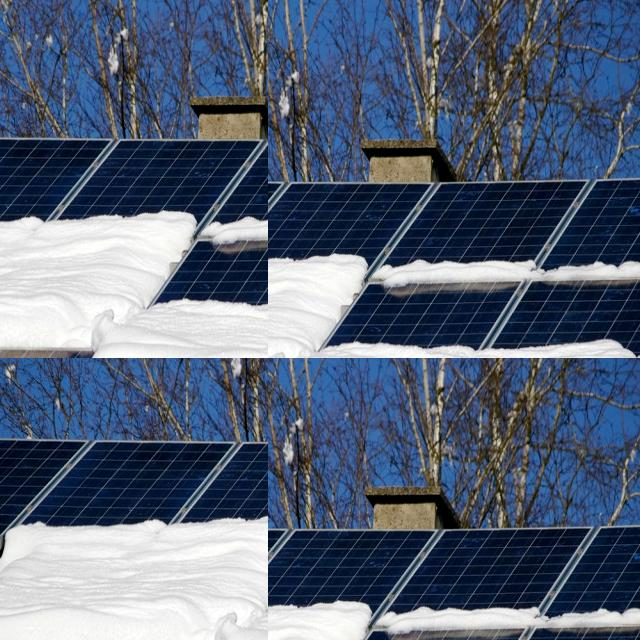bird: (12, 0, 64, 53), (95, 38, 140, 95), (75, 108, 116, 144), (29, 95, 58, 145), (59, 145, 94, 183), (268, 235, 294, 283), (0, 136, 23, 190), (0, 47, 27, 93), (84, 0, 134, 24), (0, 34, 14, 106), (0, 206, 19, 253), (0, 0, 22, 35), (268, 183, 282, 234), (268, 168, 285, 202), (16, 54, 48, 72), (0, 227, 17, 259), (268, 124, 281, 163), (268, 241, 280, 282), (91, 218, 116, 236), (268, 75, 277, 114), (268, 132, 282, 157), (0, 93, 16, 113), (268, 125, 281, 149), (268, 141, 277, 171), (0, 220, 10, 243), (268, 124, 276, 152), (0, 235, 8, 261), (268, 214, 275, 235), (0, 192, 5, 216)
crack: (0, 358, 268, 640)
panel: (381, 586, 550, 640), (525, 566, 640, 638), (268, 581, 375, 640), (268, 591, 378, 638), (268, 576, 345, 633), (268, 610, 293, 640)
